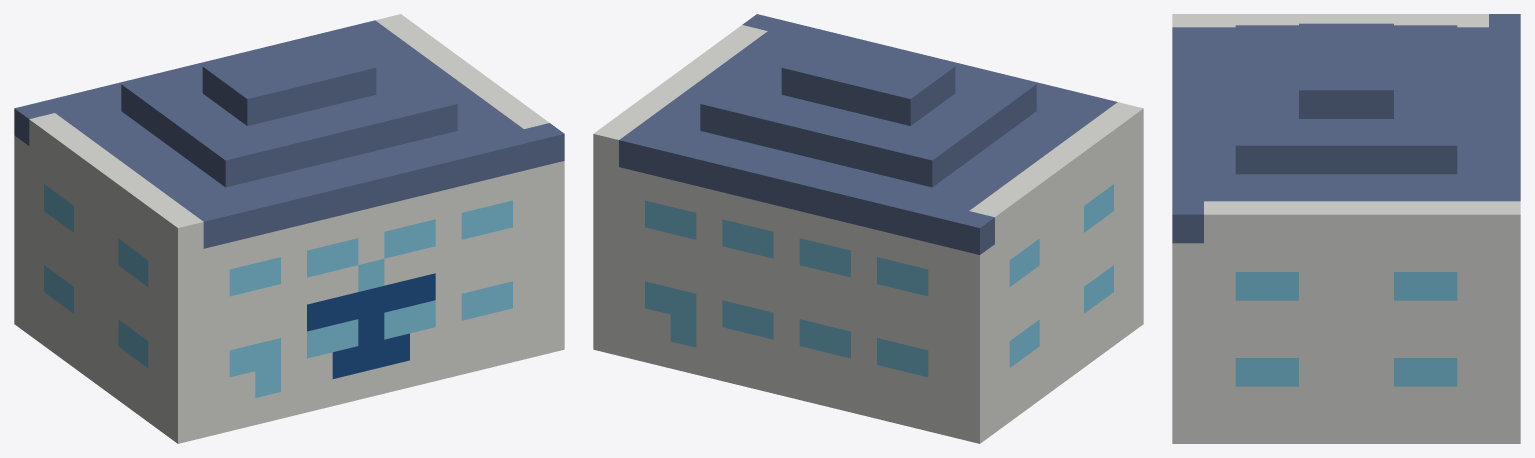
File: police_station.glb
The picture shows the model from 3 angles, left to right: view 1: azimuth 30°, elevation 25°; view 2: azimuth 150°, elevation 25°; view 3: azimuth 270°, elevation 25°; orthographic projection. The views are drawn at different scales.
Visible parts, largest first — view 1: police_station_offwhite, police_station_roof_slate, police_station_window, police_station_garda_blue; view 2: police_station_offwhite, police_station_roof_slate, police_station_window; view 3: police_station_offwhite, police_station_roof_slate, police_station_window.
Part boxes in pixels (x1,y1,x2,y2): police_station_offwhite: (14, 14, 564, 443); police_station_roof_slate: (14, 20, 564, 248); police_station_window: (44, 184, 512, 397); police_station_garda_blue: (307, 273, 435, 378); police_station_offwhite: (593, 25, 1143, 443); police_station_roof_slate: (619, 14, 1117, 254); police_station_window: (645, 184, 1113, 377); police_station_offwhite: (1172, 14, 1520, 443); police_station_roof_slate: (1172, 14, 1520, 243); police_station_window: (1235, 272, 1457, 386).
Bounding box in the file's own units: 16.09 × 10.73 × 11.8.
